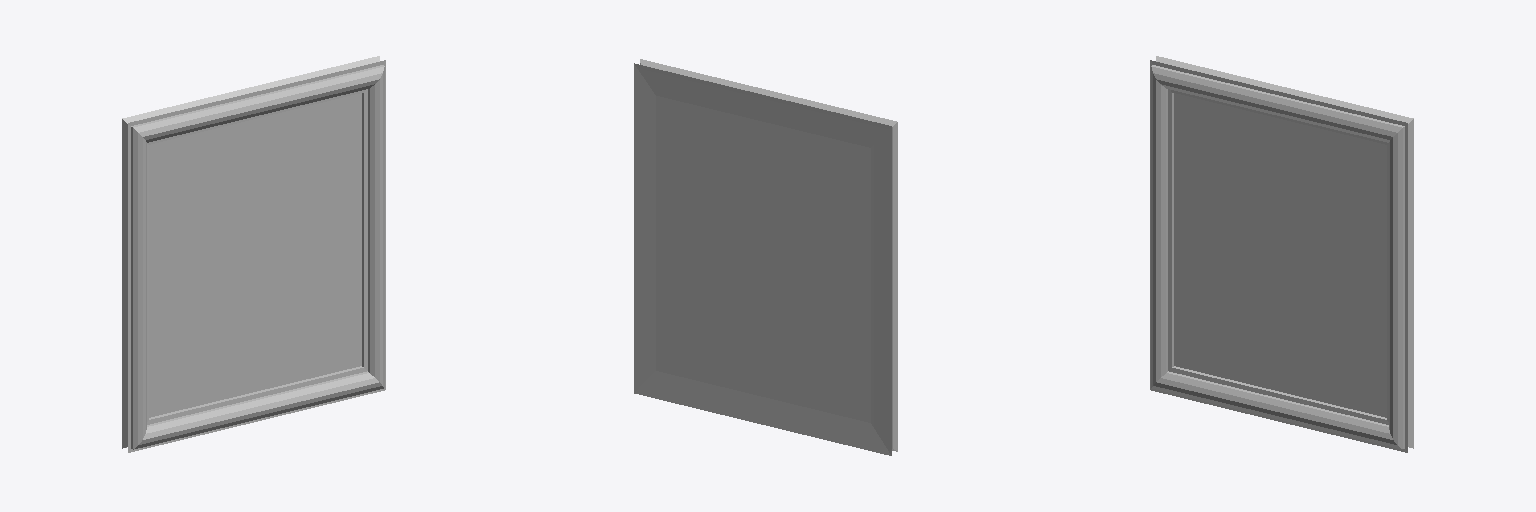
Rendered from obj_Quadro.obj.
The picture shows the model from 3 angles: view 1: azimuth 30°, elevation 25°; view 2: azimuth 150°, elevation 25°; view 3: azimuth 330°, elevation 25°; orthographic projection.
Visible parts, largest first — view 1: quadrinho1:pCube1; view 2: quadrinho1:pCube1; view 3: quadrinho1:pCube1.
Boxes of the visible parts, <box> form: quadrinho1:pCube1: <box>122,56,385,452</box>; quadrinho1:pCube1: <box>634,59,897,455</box>; quadrinho1:pCube1: <box>1150,56,1413,452</box>.
Size of the model in its own units: 53.97 by 65.97 by 3.75.